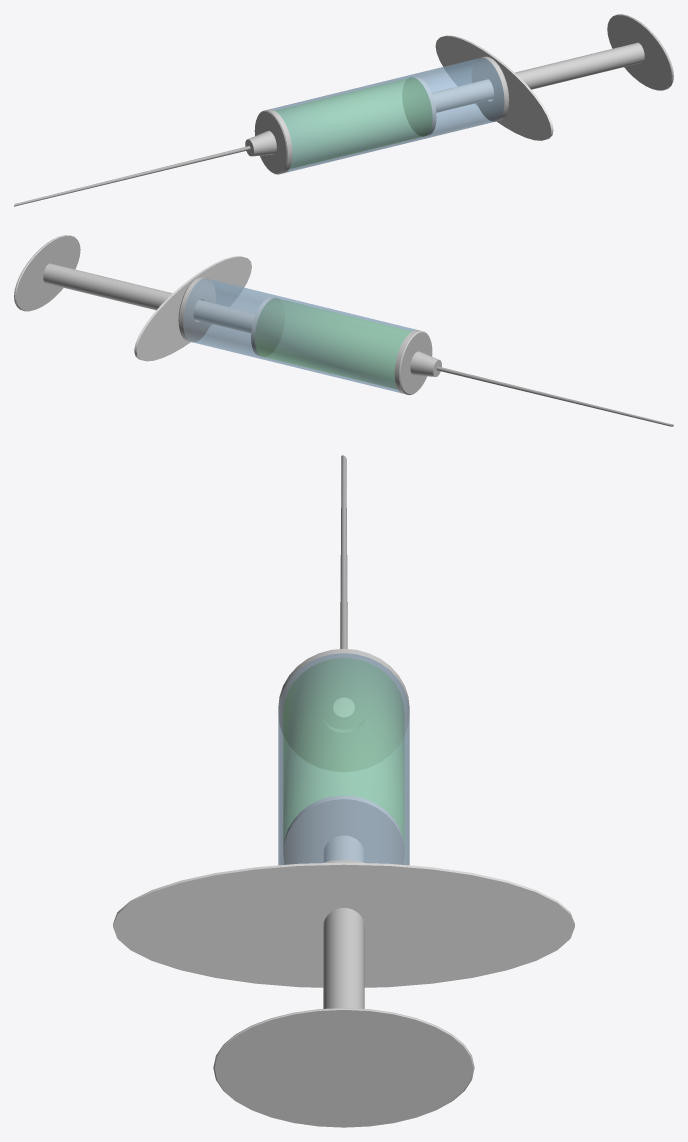
File: syringe.glb
3 renders of one model, top to bottom at view 1: azimuth 30°, elevation 25°; view 2: azimuth 150°, elevation 25°; view 3: azimuth 270°, elevation 25°, orthographic. The views are drawn at different scales.
Visible parts, largest first — view 1: Object_2, Object_4, Object_3, Object_5, Object_6; view 2: Object_2, Object_4, Object_3, Object_5, Object_6; view 3: Object_4, Object_5, Object_2, Object_3, Object_6.
Part boxes in pixels (x1,y1,x2,y2): Object_2: (270, 57, 504, 172); Object_4: (245, 14, 673, 174); Object_3: (276, 77, 432, 168); Object_5: (435, 35, 553, 140); Object_6: (14, 146, 250, 206); Object_2: (183, 278, 416, 393); Object_4: (14, 235, 441, 395); Object_3: (255, 298, 411, 388); Object_5: (134, 256, 251, 361); Object_6: (436, 366, 673, 426); Object_4: (213, 648, 474, 1127); Object_5: (113, 862, 574, 987); Object_2: (278, 653, 409, 865); Object_3: (283, 658, 404, 844); Object_6: (340, 455, 347, 648).
Size of the model in its own units: 30.49 by 2.87 by 9.73.
